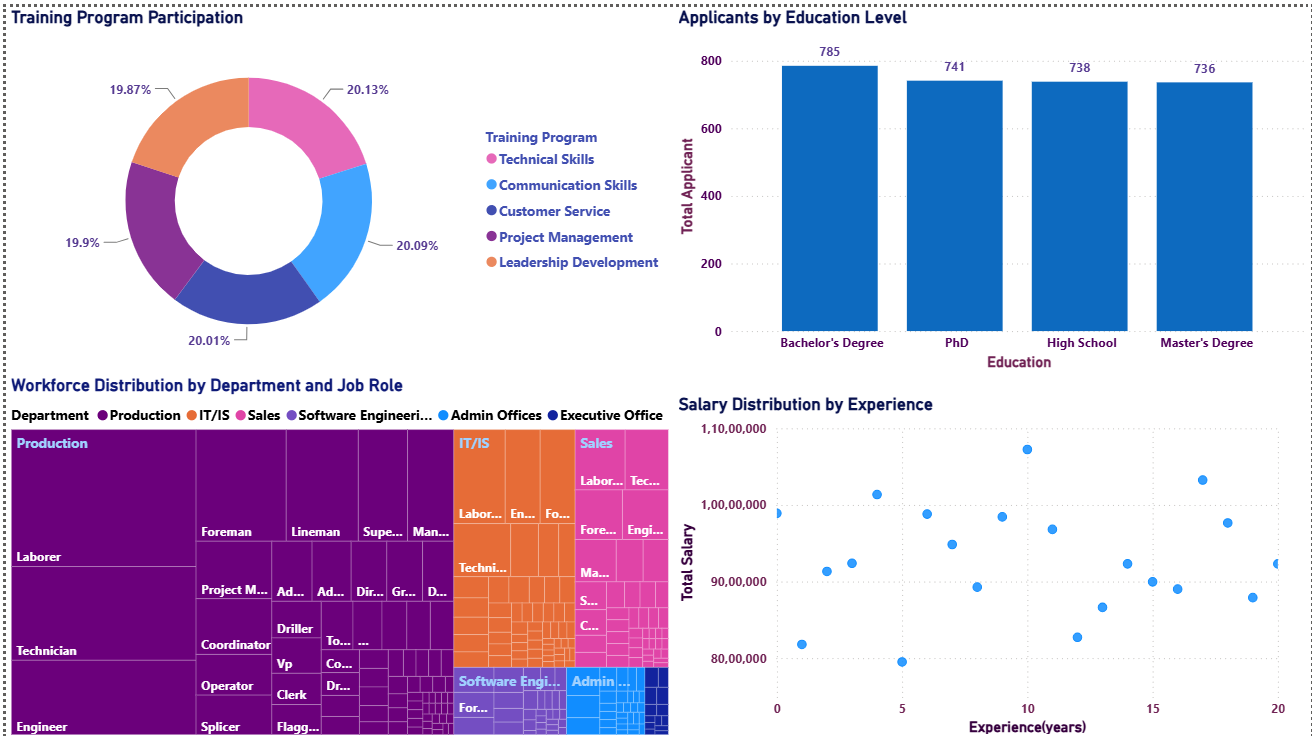

The page's visual inventory and layout, read from the dashboard file:
{"tool":"powerbi","page":{"name":"Training & Recruitment","canvas":[1280,720],"ordinal":1},"visuals":[{"type":"treemap","title":"Workforce Distribution by Department and Job Role","fields":{"Group":["Employee.Department"],"Values":["CountNonNull(Employee.EmpID)"],"Details":["Employee.Job"]},"box":[0,360.4,654.1,358.9],"z":0},{"type":"donutChart","title":"Training Program Participation","fields":{"Category":["T&D.TrainingProgram"],"Y":["Avg(Employee.CurrentEmployeeRating)"]},"box":[0,0,654.1,360.4],"z":1000},{"type":"clusteredColumnChart","title":"Applicants by Education Level","fields":{"Y":["CountNonNull(recruitment.ApplicantID)"],"Category":["recruitment.Education"]},"box":[654.1,0,625.4,360.4],"z":2000},{"type":"scatterChart","title":"Salary Distribution by Experience","fields":{"X":["recruitment.Experience(years)"],"Y":["Sum(recruitment. Salary)"]},"box":[654.1,380.1,604.2,339.2],"z":3000}]}

Visuals, with their boxes in screenshot pixels (x1, y1, x2, y2), scaled from the page's 1280x720 canvas onto the 1312x736 screenshot:
"Workforce Distribution by Department and Job Role" treemap: <box>0,368,670,735</box>
"Training Program Participation" donutChart: <box>0,0,670,368</box>
"Applicants by Education Level" clusteredColumnChart: <box>670,0,1311,368</box>
"Salary Distribution by Experience" scatterChart: <box>670,389,1290,735</box>
